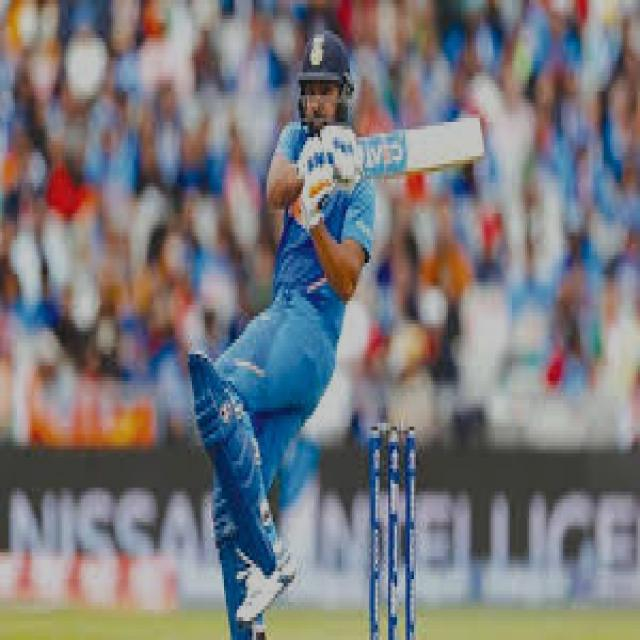toe: (446, 117, 488, 167)
